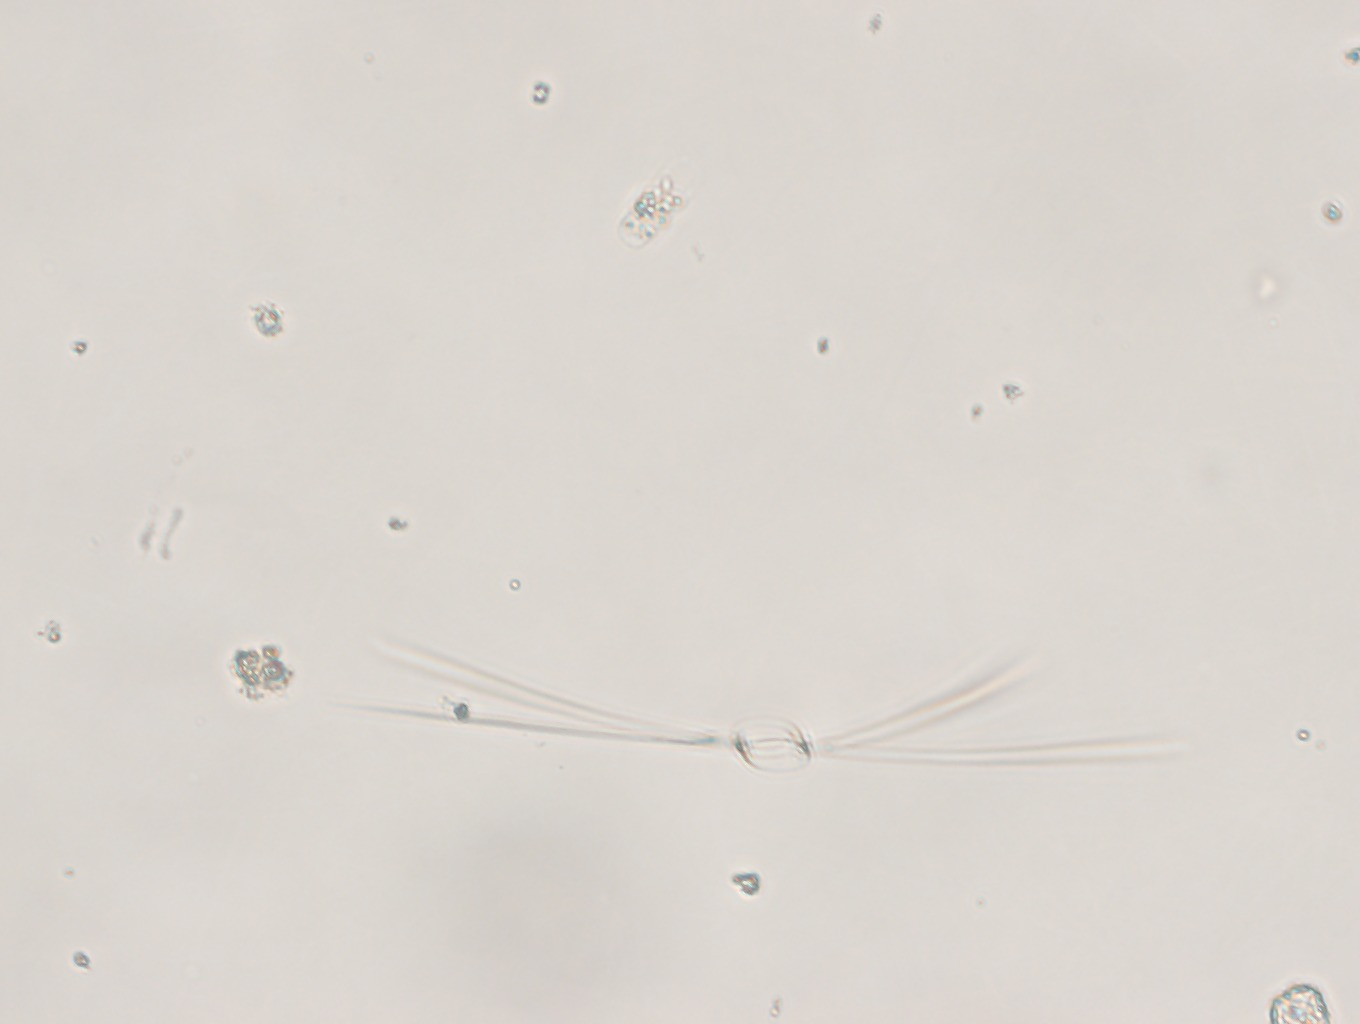chaetoceros: (346, 624, 1199, 785)
